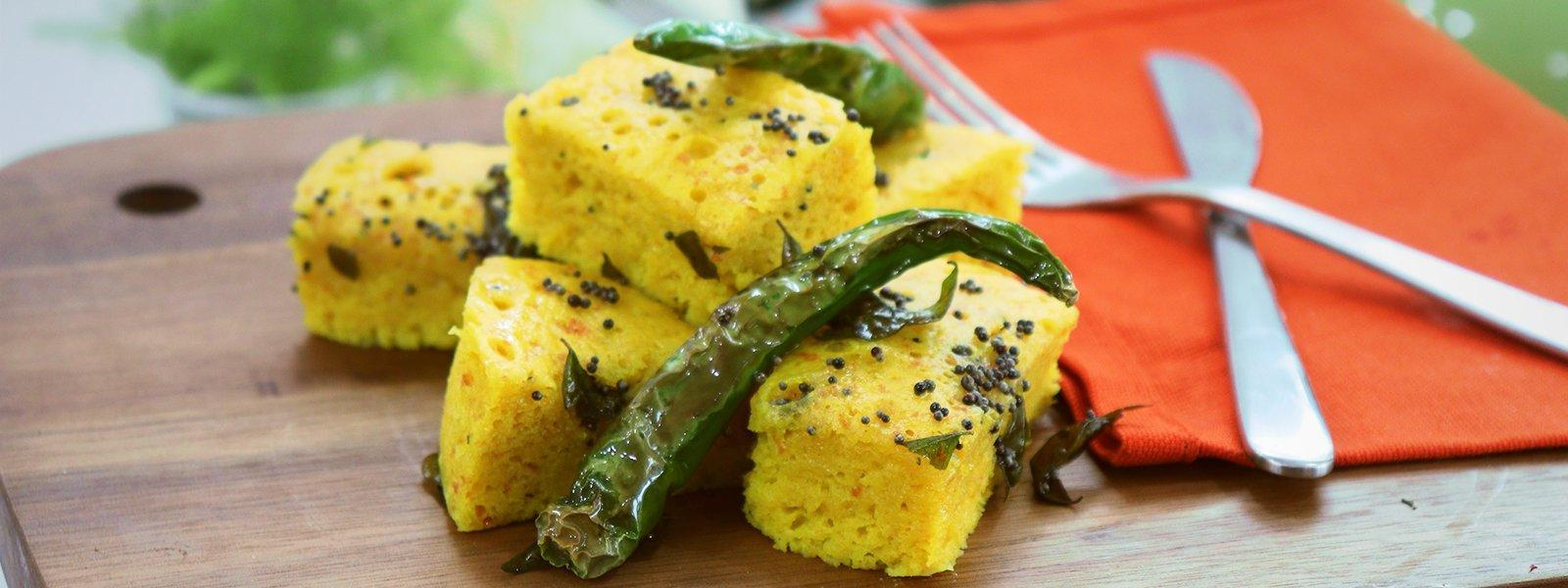dhokla: (319, 58, 1064, 572)
